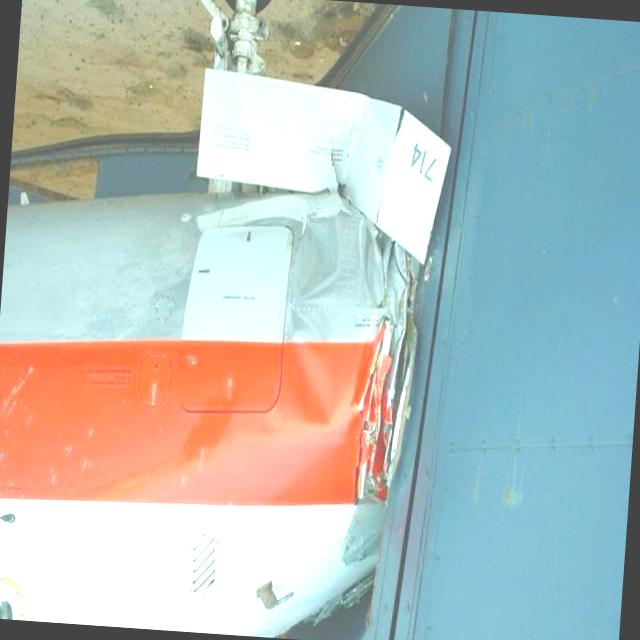dent: (281, 216, 349, 425)
